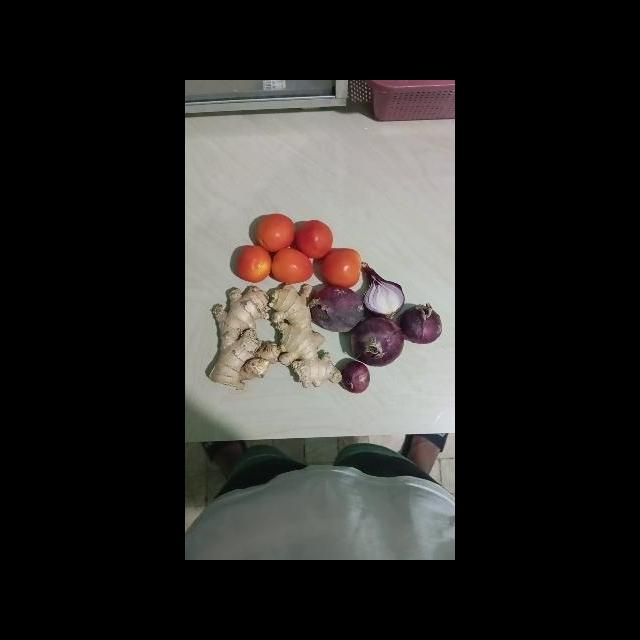ginger: (199, 283, 288, 394), (268, 283, 344, 390)
onion: (356, 258, 407, 320), (309, 283, 365, 338), (348, 315, 406, 366), (401, 301, 444, 348), (337, 360, 374, 399)
